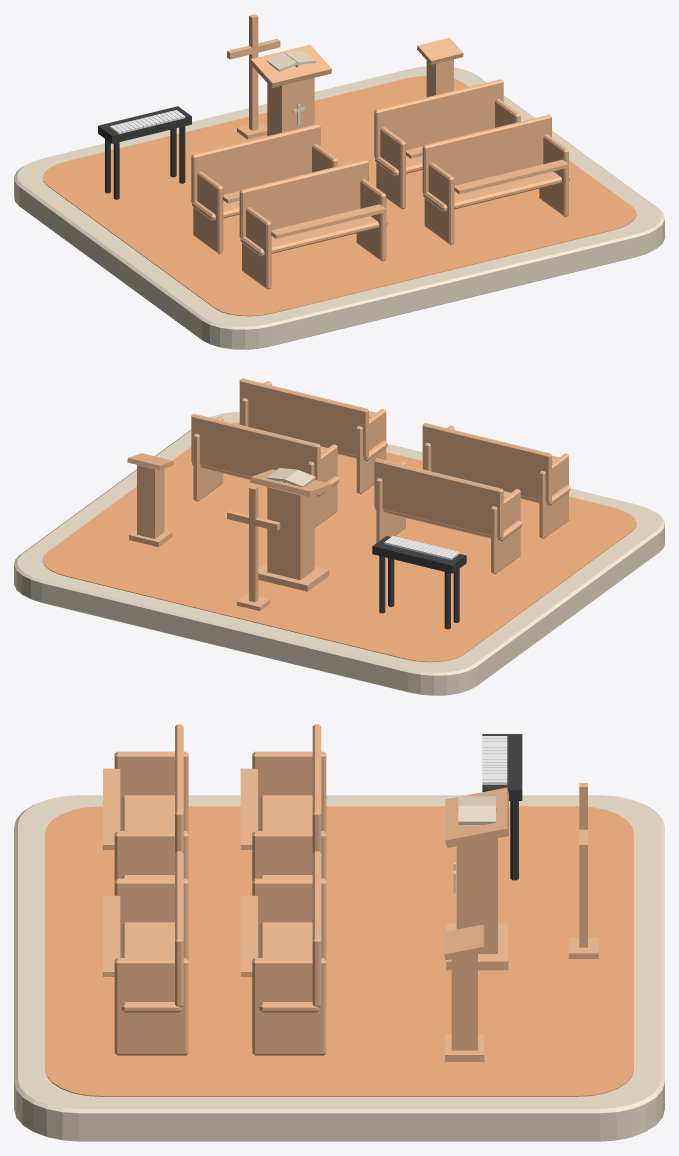
The picture shows the model from 3 angles, top to bottom: view 1: azimuth 30°, elevation 25°; view 2: azimuth 150°, elevation 25°; view 3: azimuth 270°, elevation 25°; orthographic projection. The views are drawn at different scales.
Parts seen in each view (by area): view 1: COM-02 Floor Surface, COM-01 Rounded Base Direct, Back.003, Back.002, Back.001, Back, Body, End panel.006, End panel, End panel.004, Seat.002, Seat.003 (+12 smaller); view 2: COM-02 Floor Surface, COM-01 Rounded Base Direct, Back, Back.002, Back.003, Back.001, Body, Body.001, End panel, End panel.004, End panel.006, End panel.002 (+9 smaller); view 3: COM-02 Floor Surface, COM-01 Rounded Base Direct, End panel.007, End panel.003, Body, End panel, End panel.004, End panel.006, End panel.002, End panel.005, End panel.001, Seat.001 (+20 smaller).
Boxes of the visible parts, x1=… form: COM-02 Floor Surface: x1=42, y1=76, x2=636, y2=316; COM-01 Rounded Base Direct: x1=14, y1=66, x2=664, y2=349; Back.003: x1=422, y1=114, x2=551, y2=193; Back.002: x1=239, y1=159, x2=368, y2=238; Back.001: x1=374, y1=79, x2=503, y2=158; Back: x1=191, y1=124, x2=320, y2=202; Body: x1=267, y1=78, x2=314, y2=135; End panel.006: x1=424, y1=162, x2=454, y2=244; End panel: x1=193, y1=171, x2=223, y2=253; End panel.004: x1=242, y1=207, x2=271, y2=289; Seat.002: x1=240, y1=209, x2=387, y2=256; Seat.003: x1=423, y1=164, x2=570, y2=211; COM-02 Floor Surface: x1=42, y1=422, x2=636, y2=662; COM-01 Rounded Base Direct: x1=14, y1=412, x2=664, y2=695; Back: x1=374, y1=458, x2=503, y2=538; Back.002: x1=422, y1=423, x2=551, y2=502; Back.003: x1=239, y1=378, x2=368, y2=458; Back.001: x1=191, y1=413, x2=320, y2=480; Body: x1=267, y1=487, x2=314, y2=579; Body.001: x1=137, y1=465, x2=164, y2=538; End panel: x1=491, y1=489, x2=520, y2=574; End panel.004: x1=539, y1=453, x2=568, y2=538; End panel.006: x1=356, y1=409, x2=386, y2=494; End panel.002: x1=308, y1=444, x2=337, y2=527; COM-02 Floor Surface: x1=45, y1=806, x2=633, y2=1096; COM-01 Rounded Base Direct: x1=14, y1=795, x2=664, y2=1141; End panel.007: x1=114, y1=958, x2=188, y2=1055; End panel.003: x1=252, y1=958, x2=326, y2=1055; Body: x1=456, y1=838, x2=497, y2=953; End panel: x1=252, y1=751, x2=326, y2=832; End panel.004: x1=114, y1=751, x2=188, y2=832; End panel.006: x1=114, y1=878, x2=188, y2=959; End panel.002: x1=252, y1=878, x2=326, y2=959; End panel.005: x1=114, y1=831, x2=188, y2=880; End panel.001: x1=252, y1=831, x2=326, y2=880; Seat.001: x1=259, y1=922, x2=319, y2=1012.
Size of the model in its own units: 6 by 1.76 by 5.2.
Materials: 1 (1 with a texture image).
